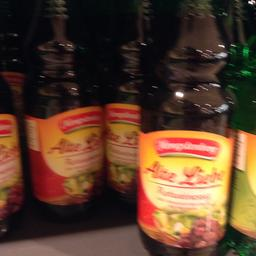vinegar: (138, 2, 225, 255), (22, 0, 108, 216)
